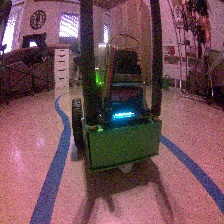rob: (71, 48, 163, 175)
